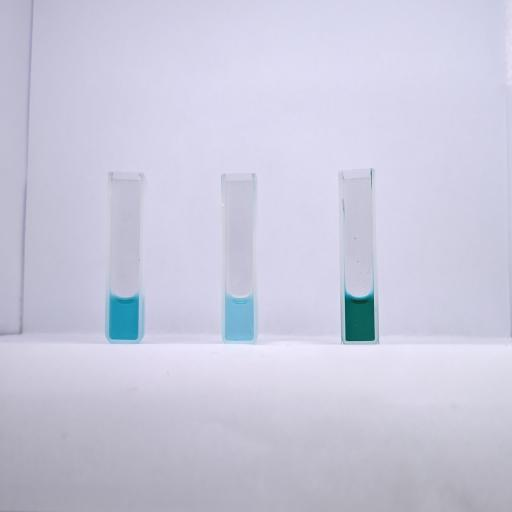cuvette: (337, 165, 381, 347), (104, 170, 147, 346), (220, 171, 258, 346)
liquid: (225, 294, 253, 340), (346, 294, 374, 340), (110, 294, 138, 339)
